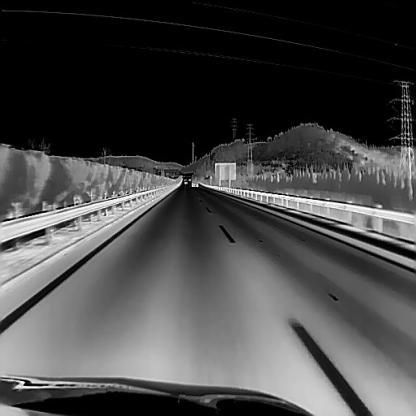car: (191, 172, 198, 186)
